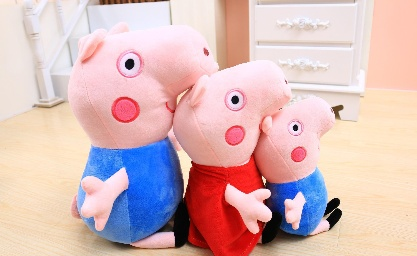Peppa: (172, 60, 290, 256)
